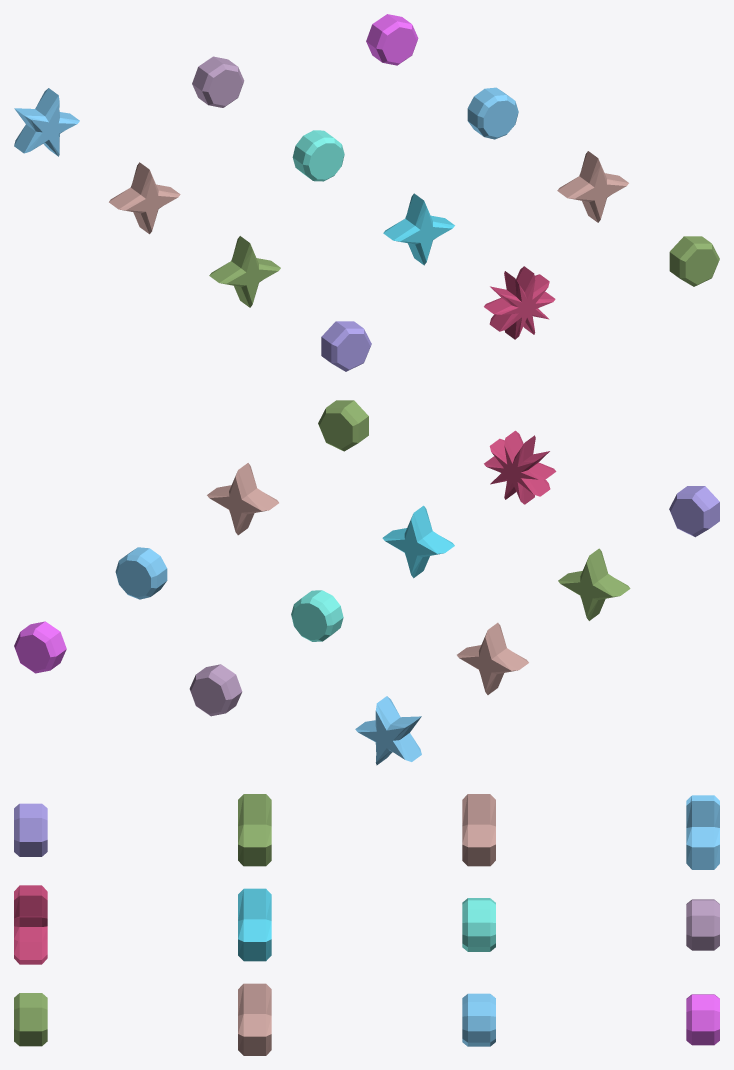
File: phong_txtrd_mats_3_LinearExtrusionTest_2023-06-04-21-23-01.gltf
3 renders of one model, top to bottom at view 1: azimuth 30°, elevation 25°; view 2: azimuth 150°, elevation 25°; view 3: azimuth 270°, elevation 25°, orthographic. The views are drawn at different scales.
Size of the model in its own units: 471 by 71.31 by 630.
